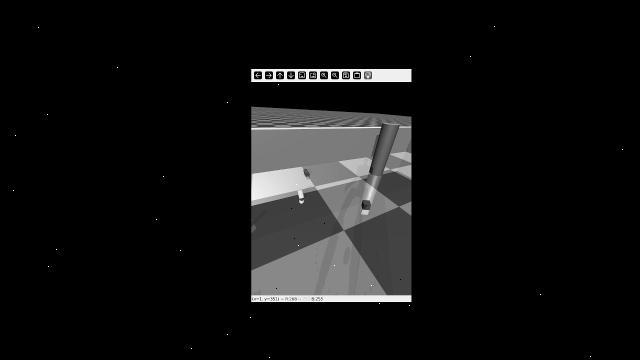cilindro: (369, 118, 401, 177), (301, 167, 312, 178), (295, 188, 305, 199)
cuadrado: (359, 197, 374, 212)
